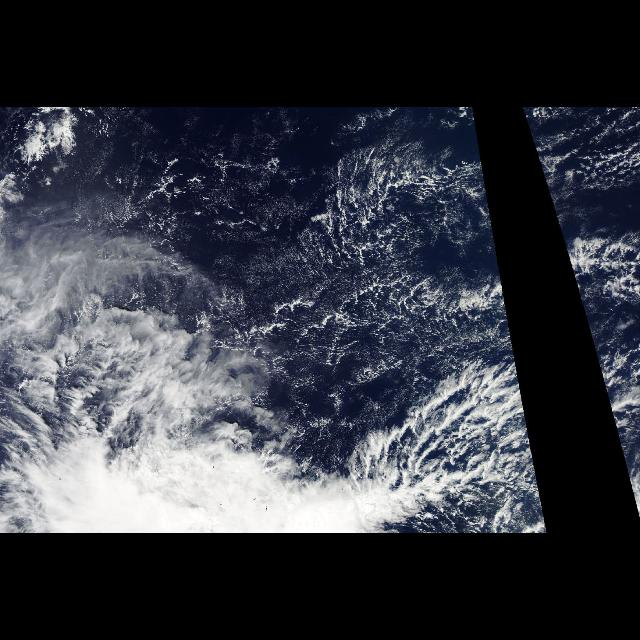Fish: (336, 311, 548, 533), (583, 311, 639, 519)
Gravel: (297, 127, 508, 340)
Sugar: (214, 142, 500, 418)
